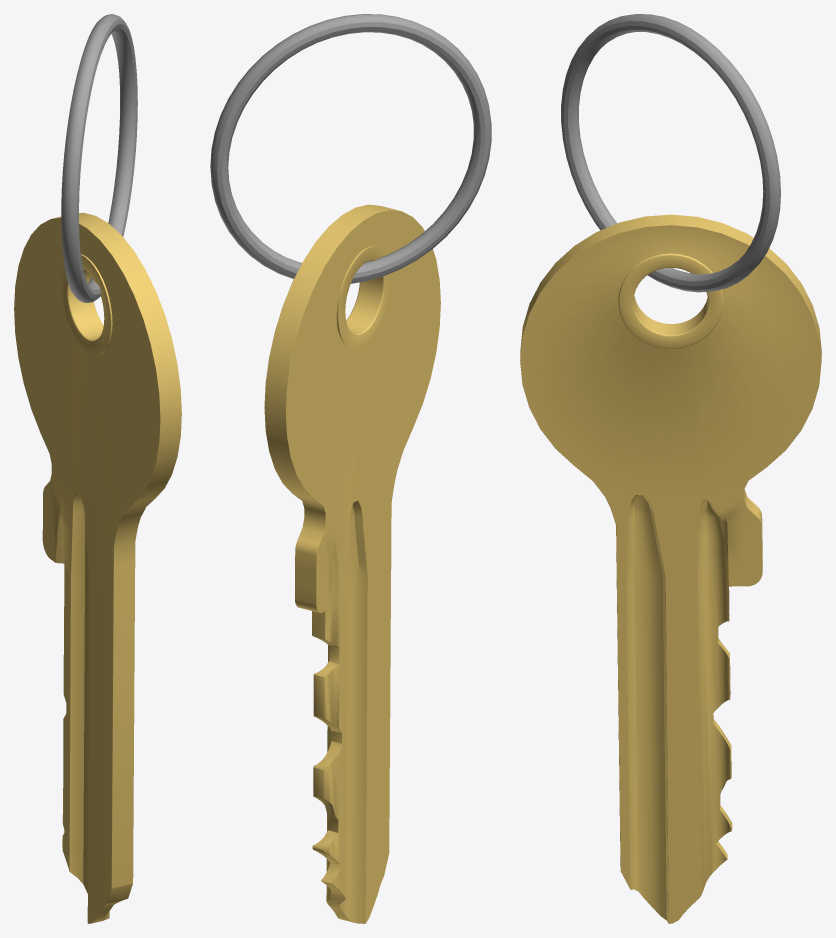
Rendered from keyring.fbx.
The picture shows the model from 3 angles, left to right: view 1: azimuth 30°, elevation 25°; view 2: azimuth 150°, elevation 25°; view 3: azimuth 270°, elevation 25°; orthographic projection.
Visible parts, largest first — view 1: Key.001; view 2: Key.001; view 3: Key.001.
Part boxes in pixels (left/top/right/bottom): Key.001: left=14, top=14, right=181, bottom=923; Key.001: left=210, top=14, right=491, bottom=923; Key.001: left=520, top=14, right=821, bottom=923.
Bounding box in the file's own units: 5.49 × 26.84 × 8.16.
